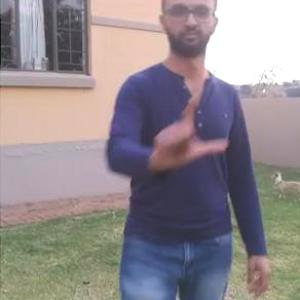land_hand: (150, 84, 231, 172)
